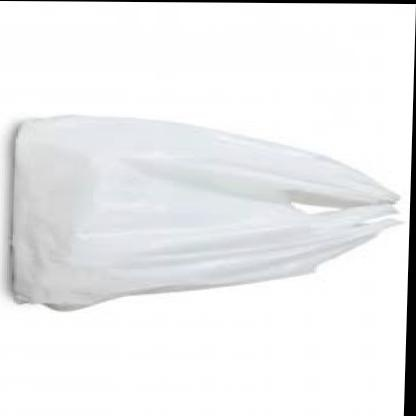trash: (10, 116, 398, 309)
